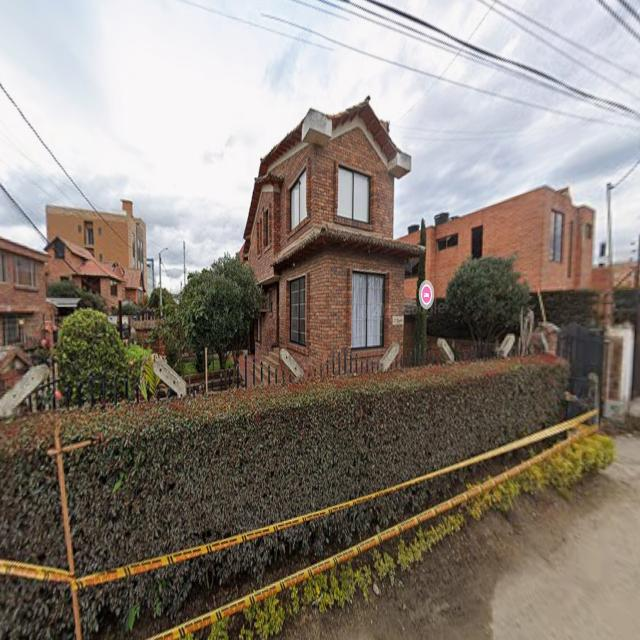Casa: (239, 97, 418, 376), (423, 187, 594, 336), (46, 200, 152, 302), (0, 237, 54, 349), (46, 236, 124, 308)
